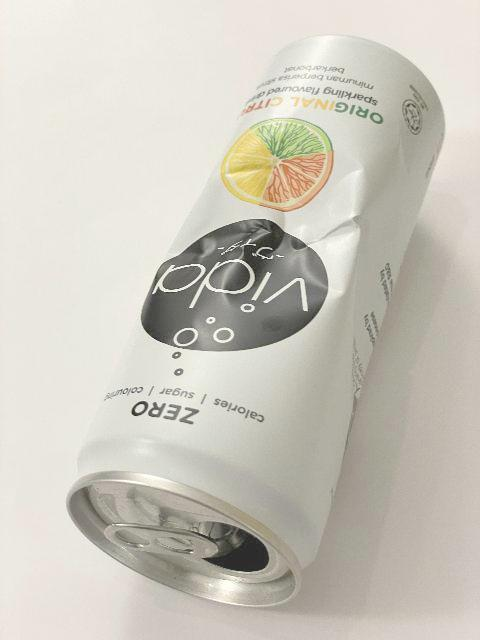drinkcan: (64, 29, 448, 613)
